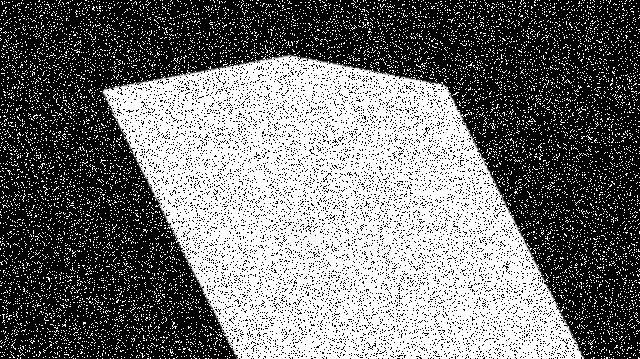pot: (272, 190, 395, 308)
